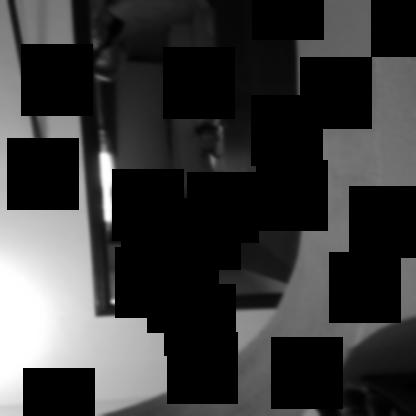Porte: (74, 0, 305, 316)
